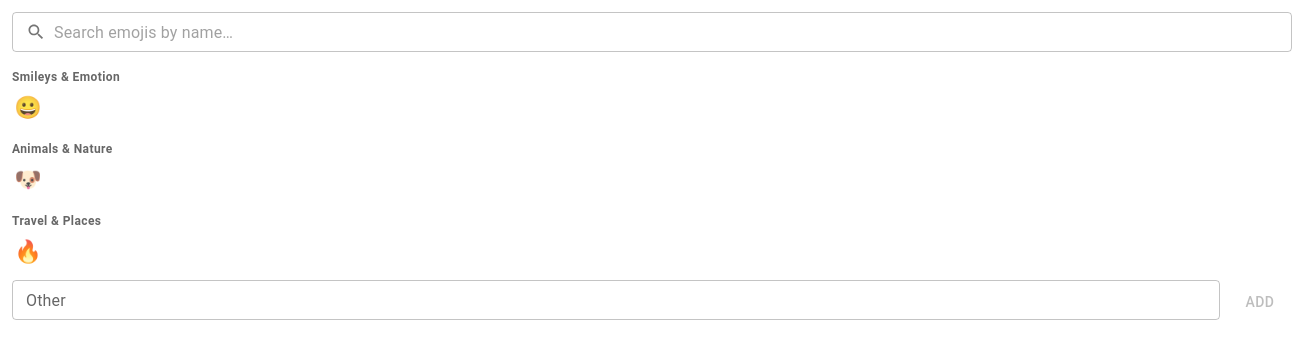
Test case: ReactionEmojiPicker (Backlog #202) › resolves the paste box: shortcode succeeds, garbage errors
The image size is (1304, 357).
Expected: the button named ":fire:" is shown, 12,236 -> 44,268
Type ":fire:" into the field named "Paste an emoji or shortcode". click: (616, 300)
box: 12,280 -> 1220,320
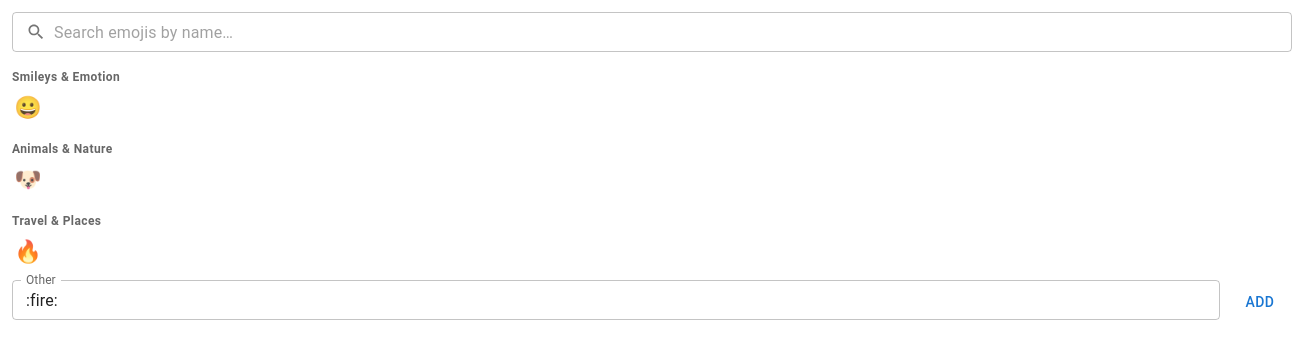
Click the button "Add". click: (1260, 302)
box: 1228,284 -> 1292,320
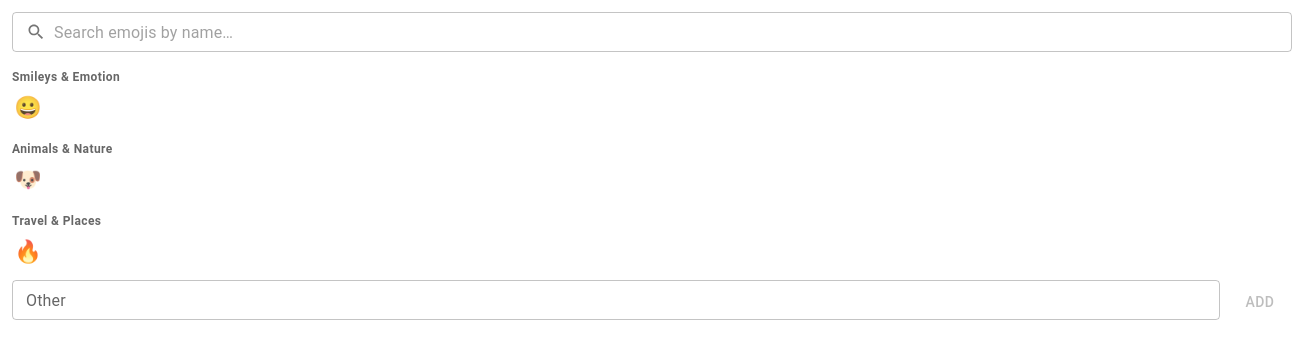
Type "not-an-emoji" into the field named "Paste an emoji or shortcode". click: (616, 300)
box: 12,280 -> 1220,320
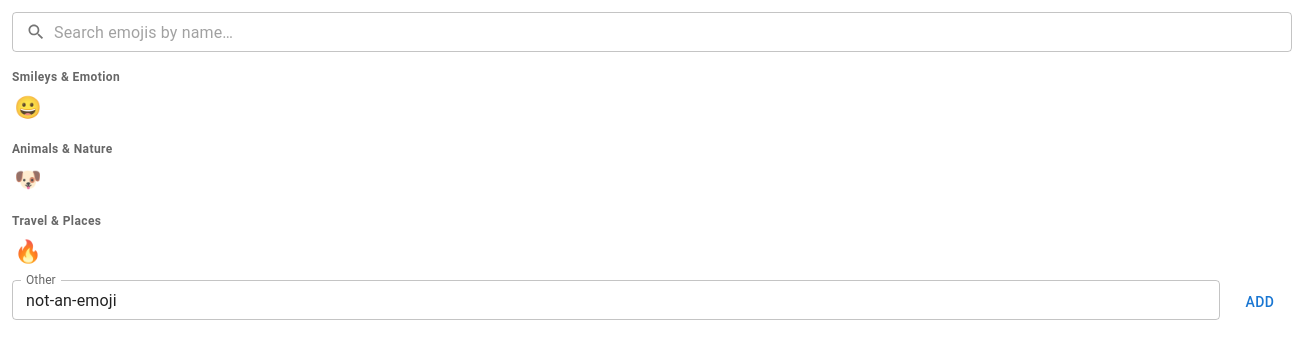
Click the button "Add". click: (1260, 302)
box: 1228,284 -> 1292,320
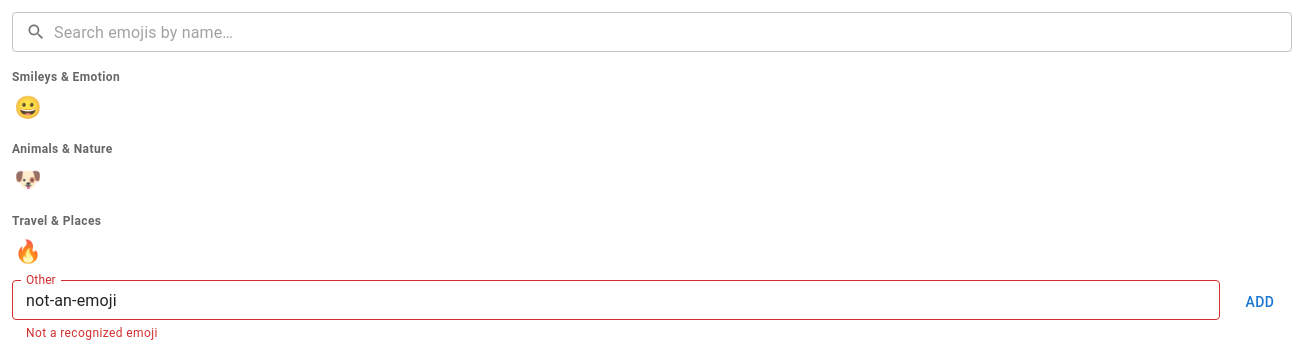
Expected: the text "Not a recognized emoji" is shown, 26,326 -> 158,340
